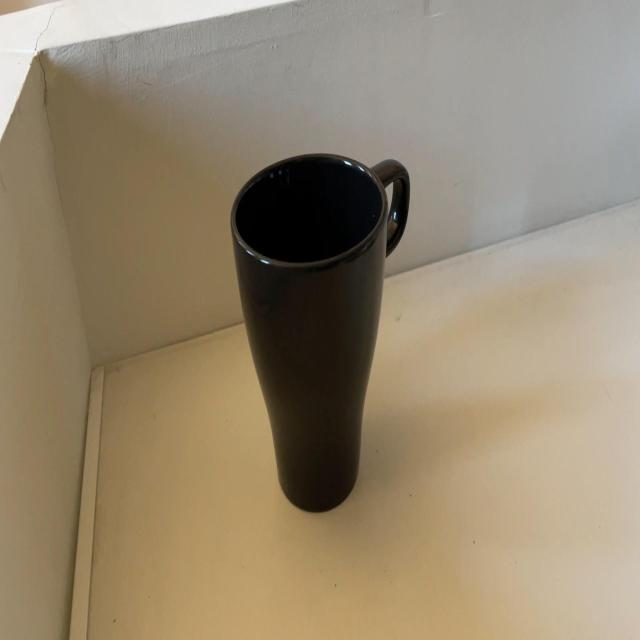cup: (225, 157, 410, 516)
